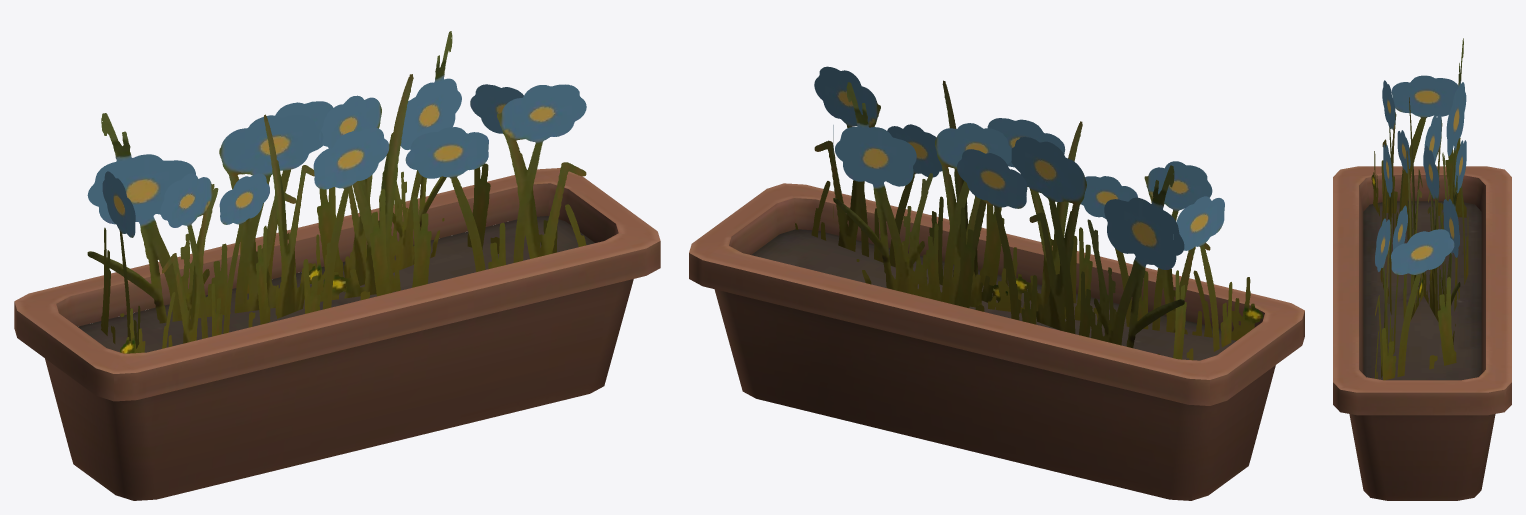
3 views of the same model, side by side, from view 1: azimuth 30°, elevation 25°; view 2: azimuth 150°, elevation 25°; view 3: azimuth 270°, elevation 25° (orthographic). The views are drawn at different scales.
Visible parts, largest first — view 1: body0_model0_lod0_mesh0; view 2: body0_model0_lod0_mesh0; view 3: body0_model0_lod0_mesh0.
Part boxes in pixels (x1,y1,x2,y2): body0_model0_lod0_mesh0: (14,31,660,500); body0_model0_lod0_mesh0: (689,66,1304,500); body0_model0_lod0_mesh0: (1333,38,1511,500).
Size of the model in its own units: 49.97 by 30.55 by 16.69.
Materials: 1 (1 with a texture image).
